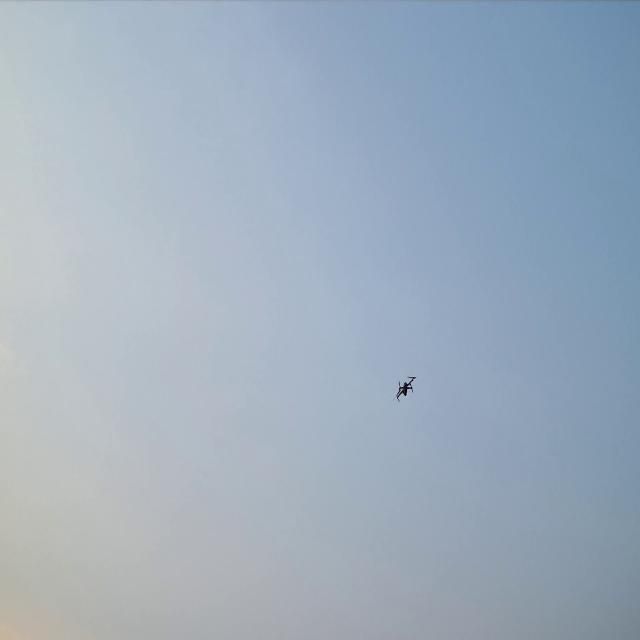UAV: (397, 377, 415, 399)
